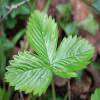Strawberry leaf: (3, 49, 53, 95), (52, 34, 96, 81), (25, 8, 59, 64)
